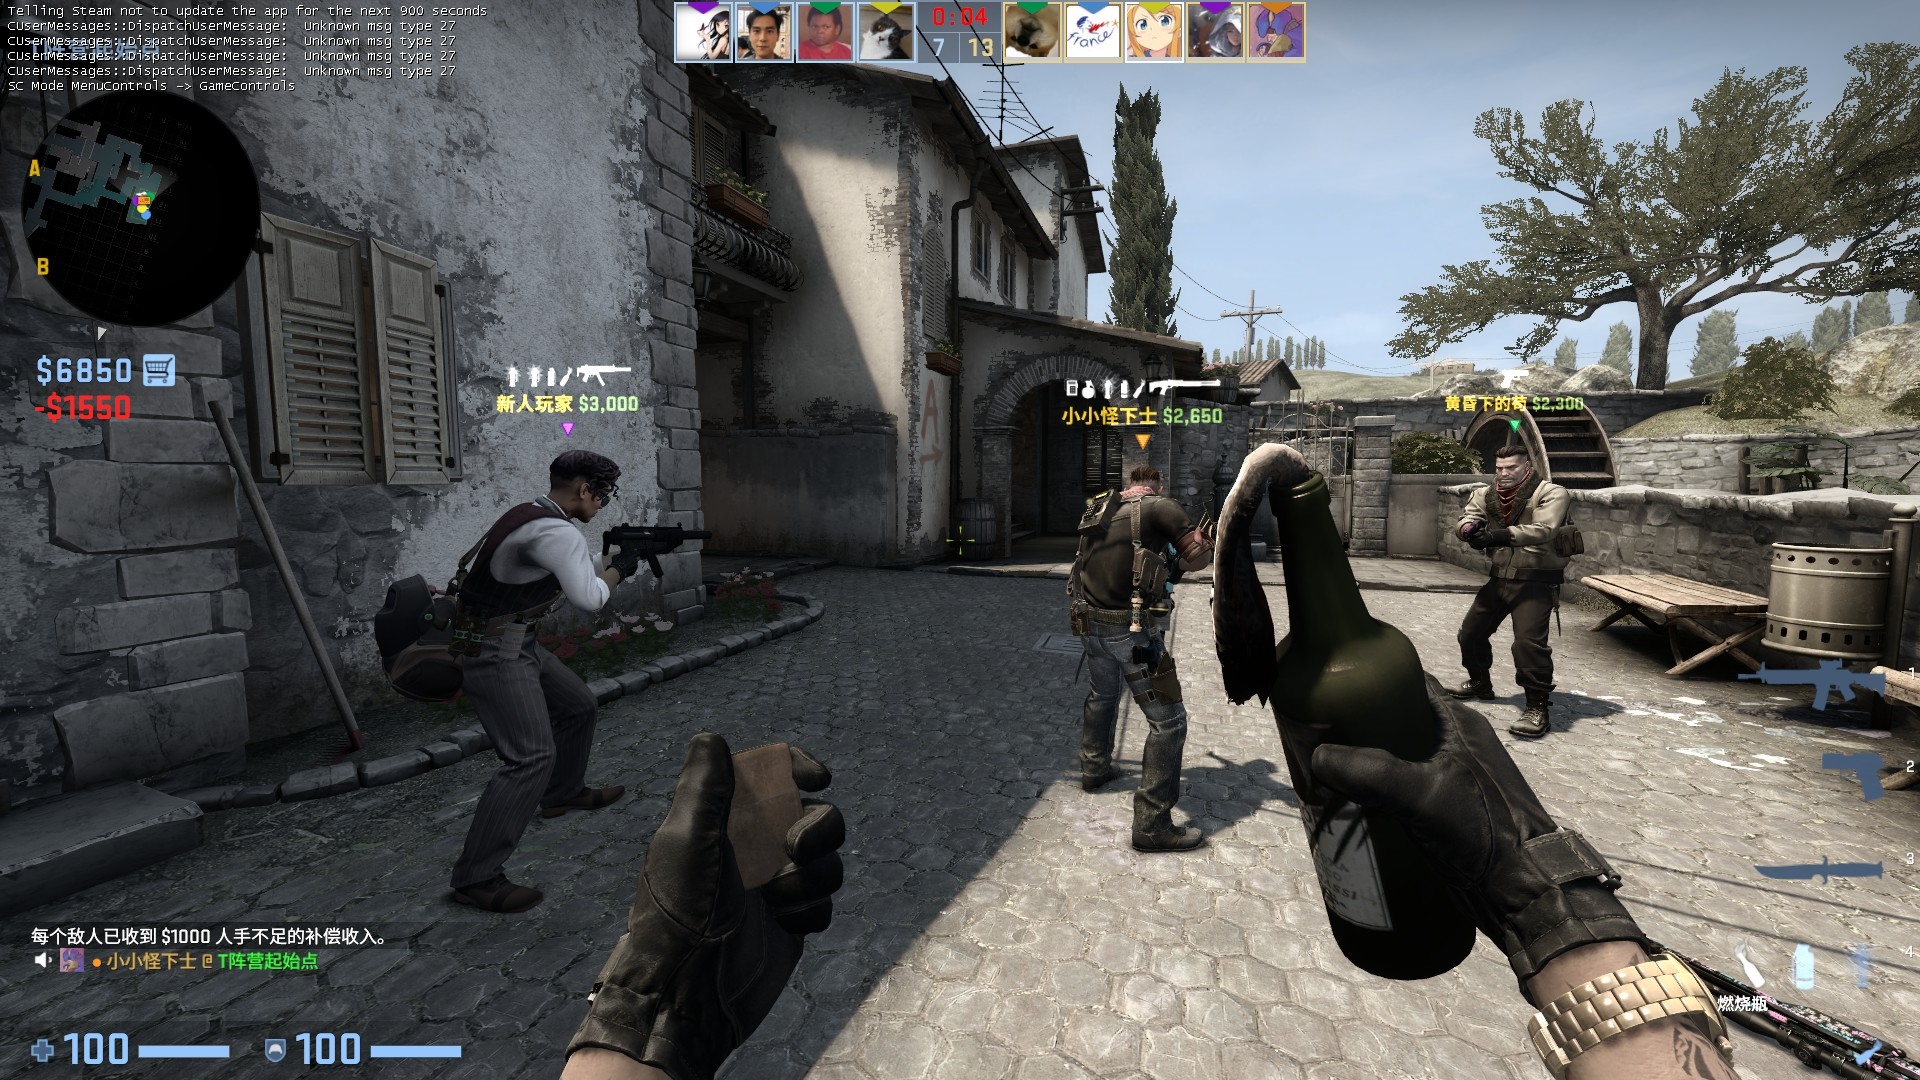head: (545, 449, 618, 523), (1491, 443, 1530, 488), (1123, 463, 1165, 499)
